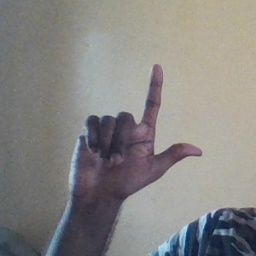L: (69, 63, 204, 196)
